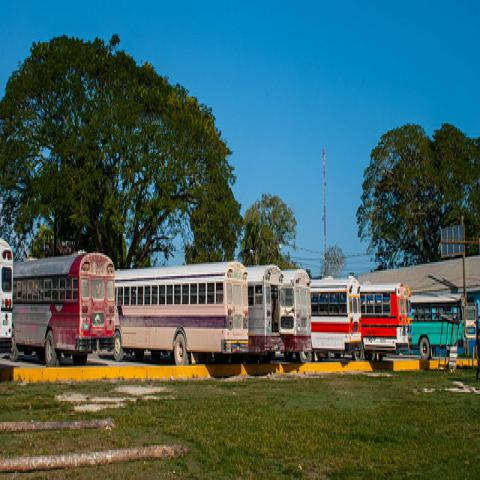bus: (98, 261, 248, 367), (9, 253, 115, 371), (244, 264, 294, 364), (355, 283, 409, 362), (311, 278, 362, 360), (411, 292, 464, 359), (282, 269, 311, 363), (0, 238, 12, 352), (466, 293, 477, 354), (402, 284, 412, 339)
